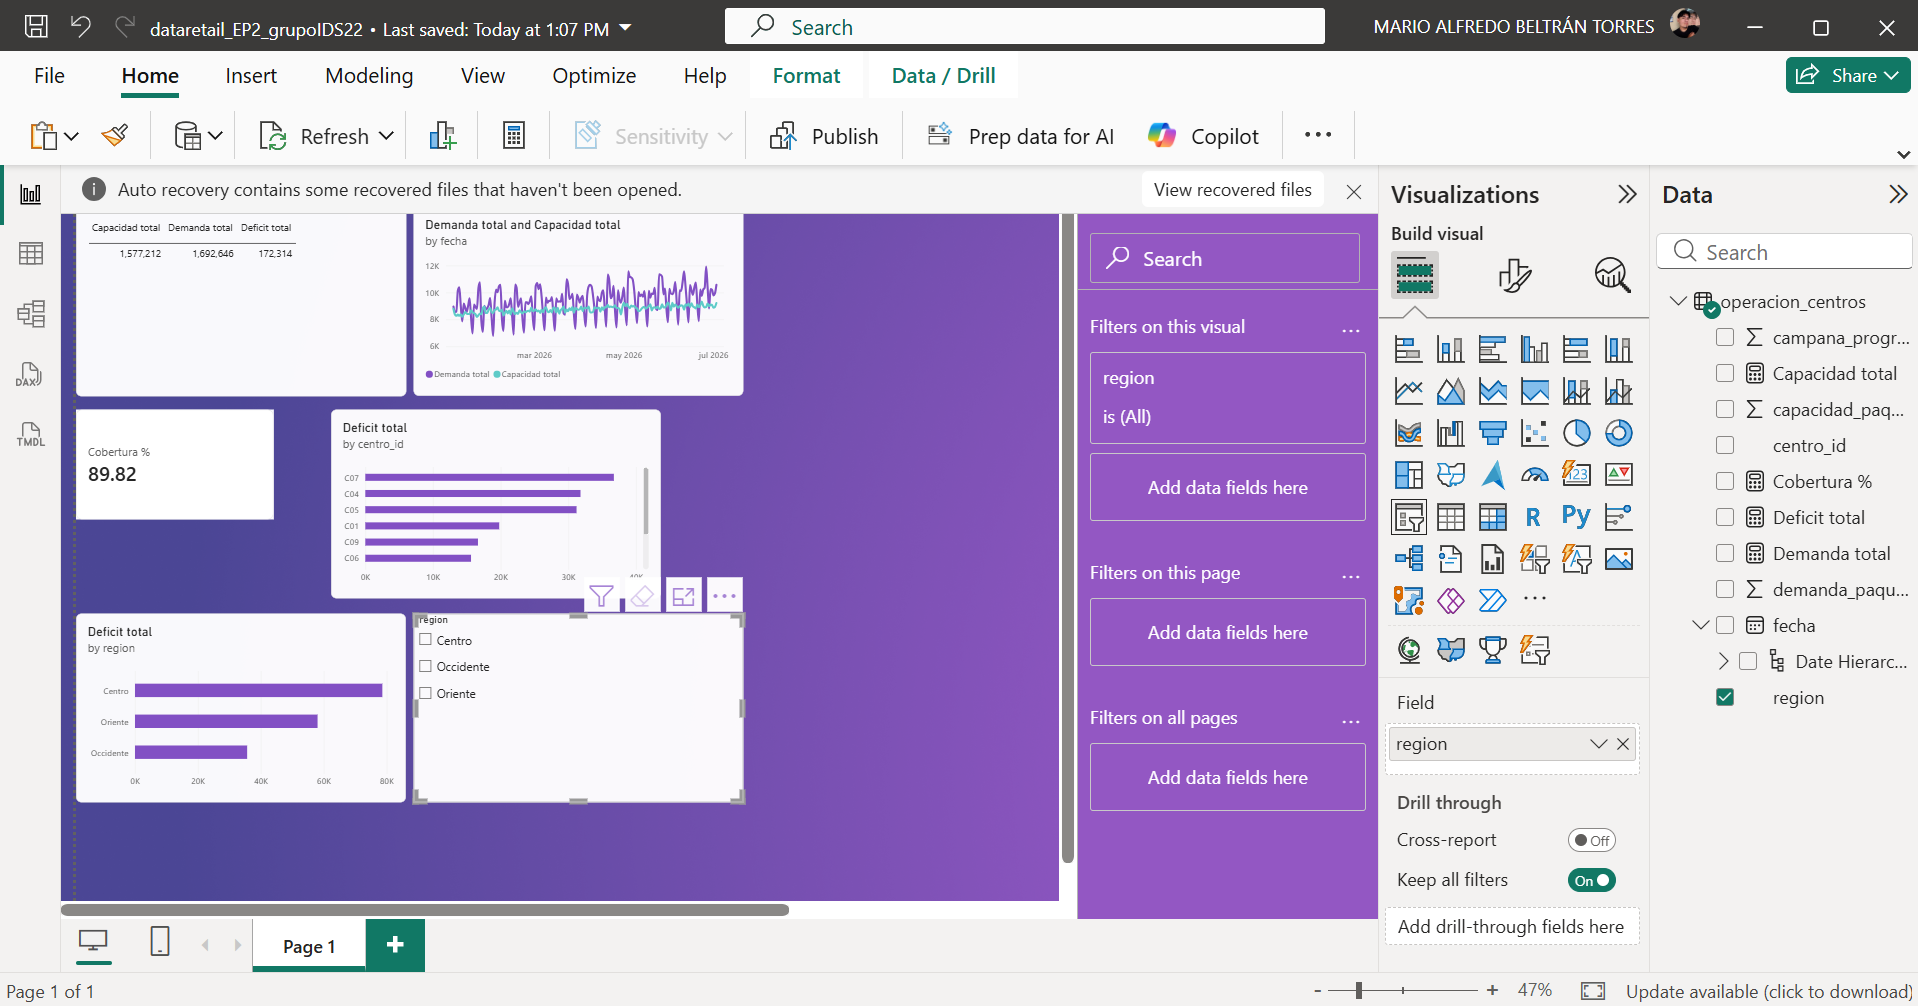

This screenshot's page, from the dashboard's own definition file:
{"tool":"powerbi","page":{"name":"Page 1","canvas":[1920,1080],"ordinal":0},"visuals":[{"type":"cardVisual","fields":{"Data":["operacion_centros.Cobertura %"]},"box":[0,324.6,280.7,156.1],"z":3},{"type":"tableEx","fields":{"Values":["operacion_centros.Capacidad total","operacion_centros.Demanda total","operacion_centros.Deficit total"]},"box":[0,38.6,468.4,268.4],"z":4},{"type":"lineChart","fields":{"Category":["operacion_centros.fecha"],"Y":["operacion_centros.Demanda total","operacion_centros.Capacidad total"]},"box":[478,39,468,268],"z":5},{"type":"clusteredBarChart","fields":{"Category":["operacion_centros.region"],"Y":["operacion_centros.Deficit total"]},"box":[0,614.9,468,268],"z":6},{"type":"clusteredBarChart","fields":{"Category":["operacion_centros.centro_id"],"Y":["operacion_centros.Deficit total"]},"box":[361.7,325.5,468,268],"z":7},{"type":"slicer","fields":{"Values":["operacion_centros.region"]},"box":[478.7,614.9,468,268],"z":8}]}

Visuals, with their boxes on the page's 1920x1080 design canvas (x1, y1, x2, y2). These are canvas units, not pixel positions in the 1918x1006 screenshot, which may show the page scaled, cropped or inside an application window:
cardVisual - operacion_centros.Cobertura %: l=0, t=325, r=281, b=481
tableEx - operacion_centros.Capacidad total x operacion_centros.Demanda total: l=0, t=39, r=468, b=307
lineChart - operacion_centros.fecha x operacion_centros.Demanda total: l=478, t=39, r=946, b=307
clusteredBarChart - operacion_centros.region x operacion_centros.Deficit total: l=0, t=615, r=468, b=883
clusteredBarChart - operacion_centros.centro_id x operacion_centros.Deficit total: l=362, t=326, r=830, b=594
slicer - operacion_centros.region: l=479, t=615, r=947, b=883
